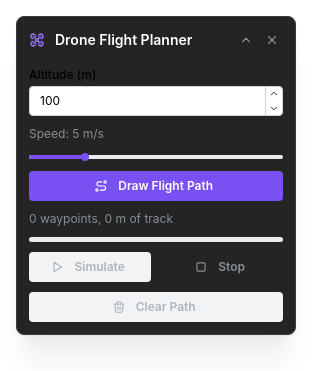
it: DronePanel › ends drawing on a double click
The image size is (312, 371).
Click the button "Draw Flight Path": click(156, 186) [29, 171, 283, 201]
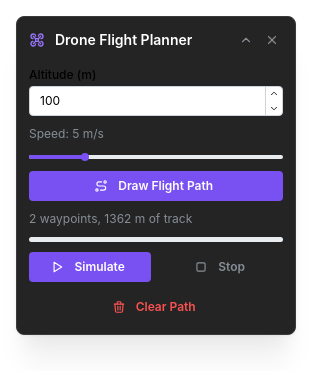
expect the text with test id "drone-hint" reads "2 waypoints, 1362 m of track": met, box [29, 211, 192, 226]
